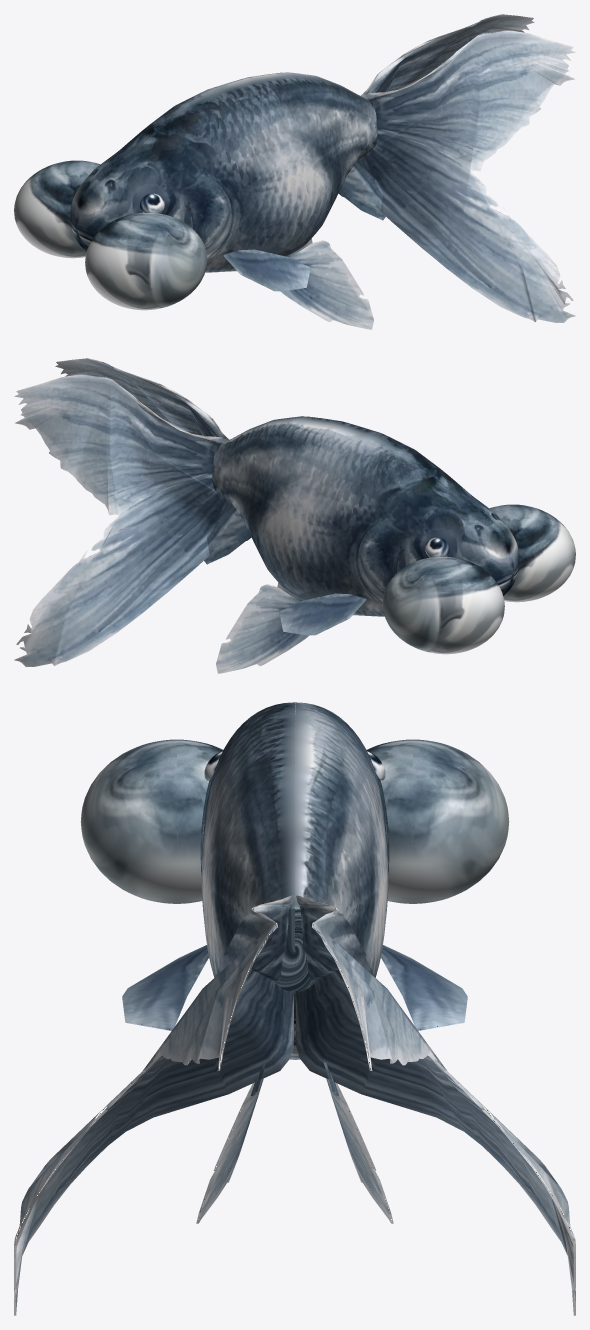
Rendered from gin-suihogan.glb.
3 renders of one model, top to bottom at view 1: azimuth 30°, elevation 25°; view 2: azimuth 150°, elevation 25°; view 3: azimuth 270°, elevation 25°, orthographic. The views are drawn at different scales.
Visible parts, largest first — view 1: body, caudal_near, sac_near, sac_far, pelvic_near, caudal_far, pectoral_near, gill_near, anal_near, eye_near; view 2: body, caudal_far, sac_far, sac_near, pelvic_far, caudal_near, pectoral_far, gill_far, anal_far, eye_far; view 3: body, caudal_near, caudal_far, sac_near, sac_far, pectoral_near, pectoral_far, pelvic_near, pelvic_far.
Part boxes in pixels (x1=…): body: x1=70, y1=72, x2=377, y2=272; caudal_near: x1=357, y1=30, x2=575, y2=322; sac_near: x1=85, y1=212, x2=207, y2=310; sac_far: x1=14, y1=160, x2=100, y2=258; pelvic_near: x1=280, y1=240, x2=373, y2=329; caudal_far: x1=361, y1=14, x2=534, y2=95; pectoral_near: x1=223, y1=249, x2=310, y2=291; gill_near: x1=198, y1=176, x2=232, y2=259; anal_near: x1=339, y1=162, x2=385, y2=220; eye_near: x1=140, y1=193, x2=164, y2=213; body: x1=212, y1=416, x2=519, y2=616; caudal_far: x1=14, y1=374, x2=232, y2=666; sac_far: x1=382, y1=556, x2=504, y2=654; sac_near: x1=489, y1=504, x2=575, y2=602; pelvic_far: x1=216, y1=584, x2=309, y2=673; caudal_near: x1=55, y1=358, x2=228, y2=439; pectoral_far: x1=279, y1=593, x2=366, y2=635; gill_far: x1=357, y1=520, x2=391, y2=603; anal_far: x1=204, y1=506, x2=250, y2=564; eye_far: x1=425, y1=537, x2=449, y2=557; body: x1=201, y1=702, x2=388, y2=1059; caudal_near: x1=14, y1=895, x2=293, y2=1315; caudal_far: x1=296, y1=895, x2=575, y2=1315; sac_near: x1=80, y1=739, x2=223, y2=903; sac_far: x1=366, y1=739, x2=509, y2=903; pectoral_near: x1=122, y1=945, x2=208, y2=1030; pectoral_far: x1=381, y1=945, x2=467, y2=1030; pelvic_near: x1=196, y1=1078, x2=263, y2=1223; pelvic_far: x1=326, y1=1078, x2=393, y2=1223.
Size of the model in its own units: 0.15 by 0.0715 by 0.0883.
Materials: 1 (1 with a texture image).
